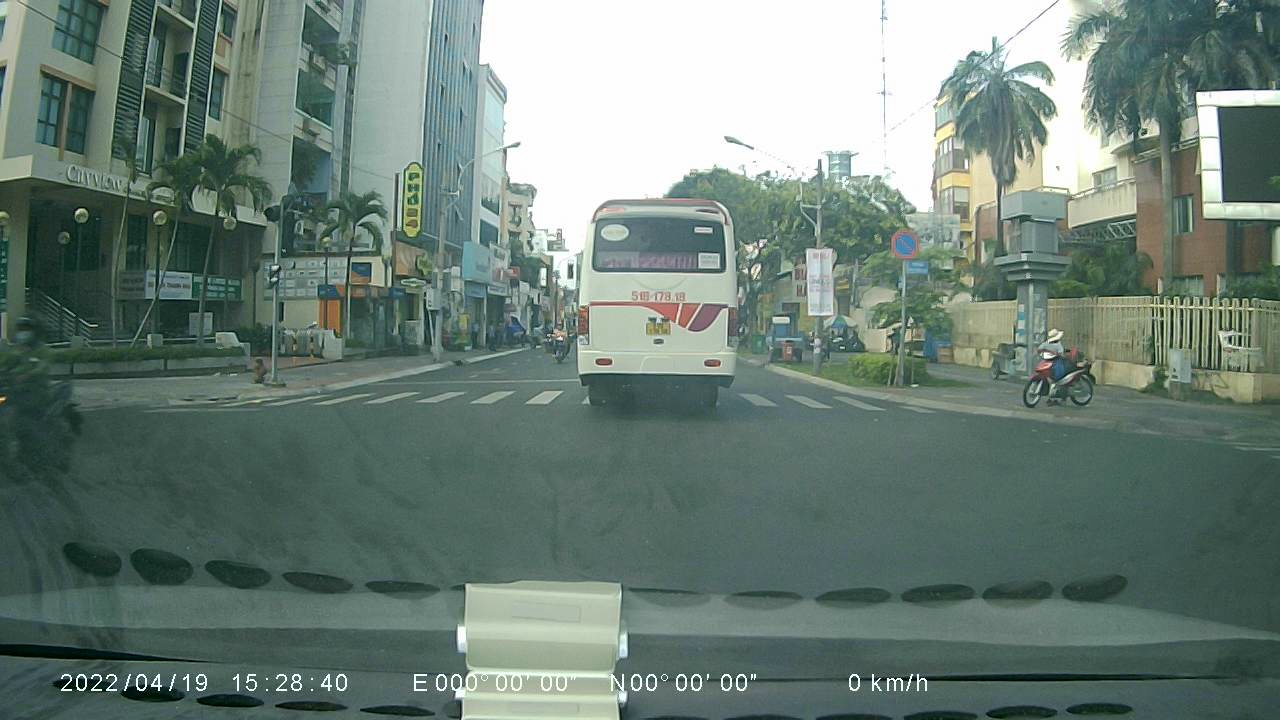Cam do xe: (890, 226, 920, 259)
